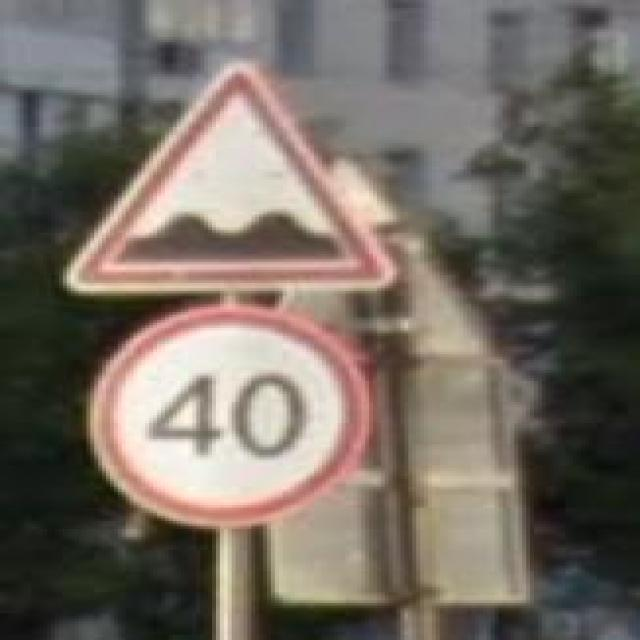traffic_sign: (63, 61, 400, 301), (90, 309, 377, 529)
